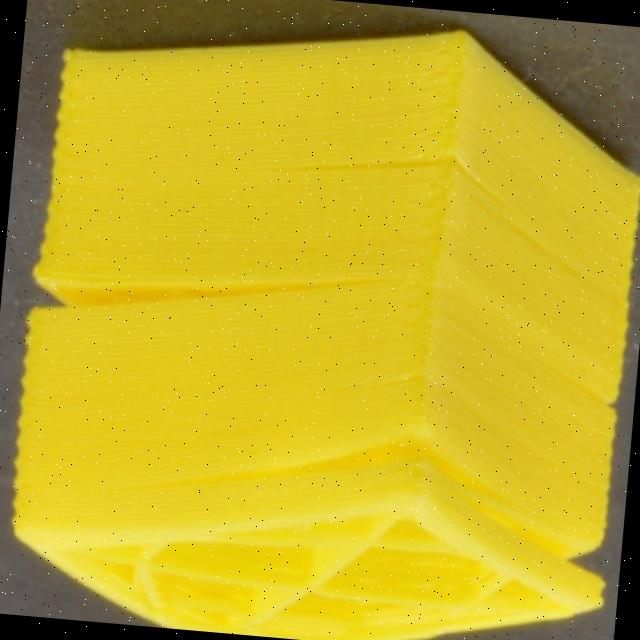cracks: (252, 411, 527, 534), (26, 258, 390, 331), (279, 143, 517, 221), (515, 510, 607, 601), (552, 361, 621, 422)
